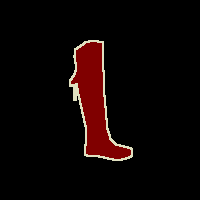shoe: (70, 40, 132, 160)
